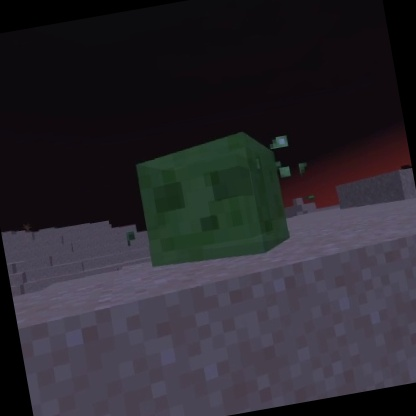slime: (125, 121, 299, 278)
